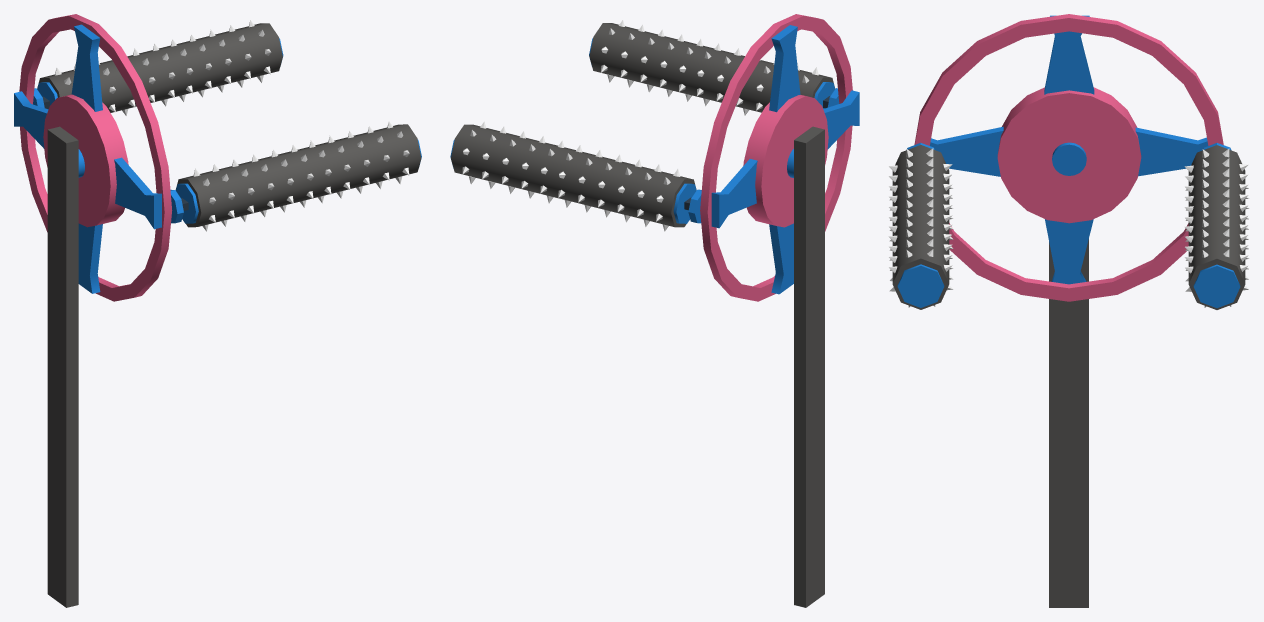
Rendered from trap_021.fbx.
3 views of the same model, side by side, from view 1: azimuth 30°, elevation 25°; view 2: azimuth 150°, elevation 25°; view 3: azimuth 270°, elevation 25° (orthographic). The views are drawn at different scales.
Visible parts, largest first — view 1: trap_021_rotate, trap_021_base; view 2: trap_021_rotate, trap_021_base; view 3: trap_021_rotate, trap_021_base.
Part boxes in pixels (bbox=[...]): trap_021_rotate: bbox=[14, 14, 421, 301]; trap_021_base: bbox=[47, 126, 78, 607]; trap_021_rotate: bbox=[450, 14, 859, 301]; trap_021_base: bbox=[794, 126, 824, 607]; trap_021_rotate: bbox=[888, 14, 1249, 309]; trap_021_base: bbox=[1049, 239, 1088, 607].
Size of the model in its own units: 1463 by 2780 by 1503.
